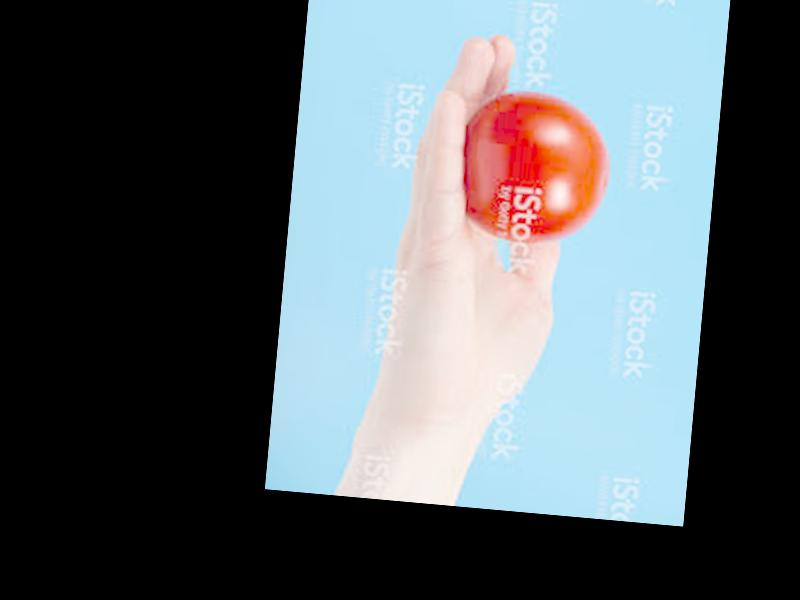Tomato: (457, 86, 612, 247)
